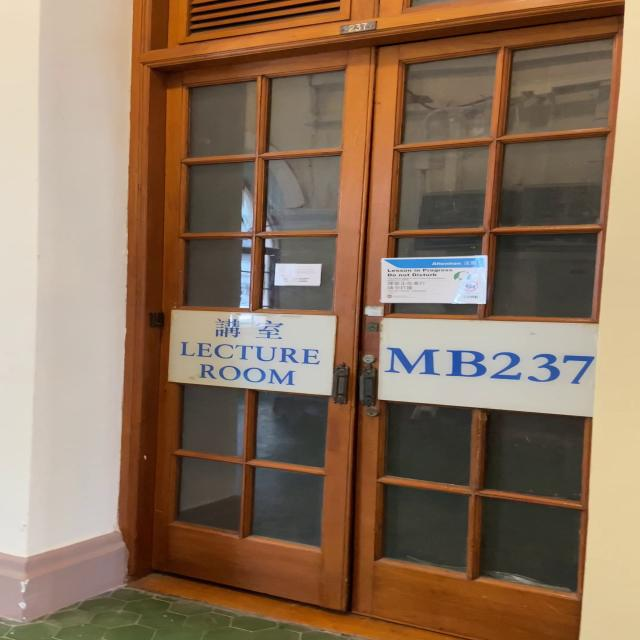room237: (339, 20, 382, 36)
room237Window: (384, 342, 595, 391)
